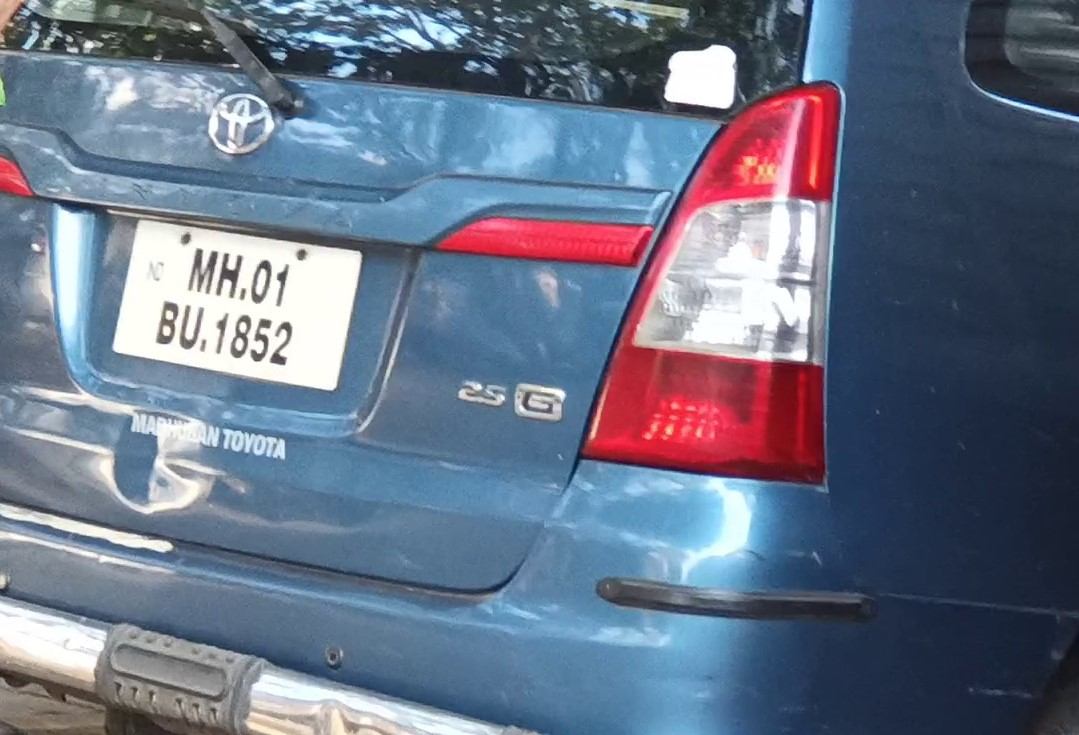MH01BU1852: (113, 215, 362, 392)
